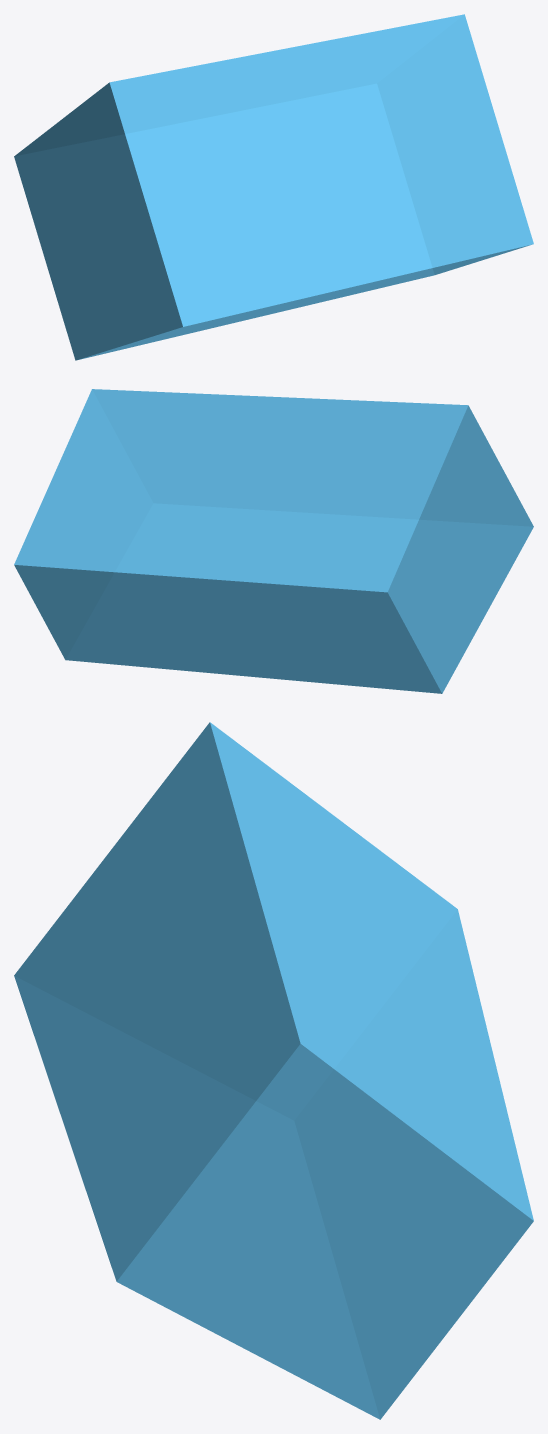
The model's file is Event_420604493_HErechit_28.fbx.
The picture shows the model from 3 angles, top to bottom: view 1: azimuth 30°, elevation 25°; view 2: azimuth 150°, elevation 25°; view 3: azimuth 270°, elevation 25°; orthographic projection. The views are drawn at different scales.
Parts seen in each view (by area): view 1: Model; view 2: Model; view 3: Model.
Part boxes in pixels (bbox=[...]): Model: bbox=[14, 14, 533, 360]; Model: bbox=[14, 389, 533, 693]; Model: bbox=[14, 722, 533, 1419].
Size of the model in its own units: 0.7167 by 0.5856 by 0.6198.
